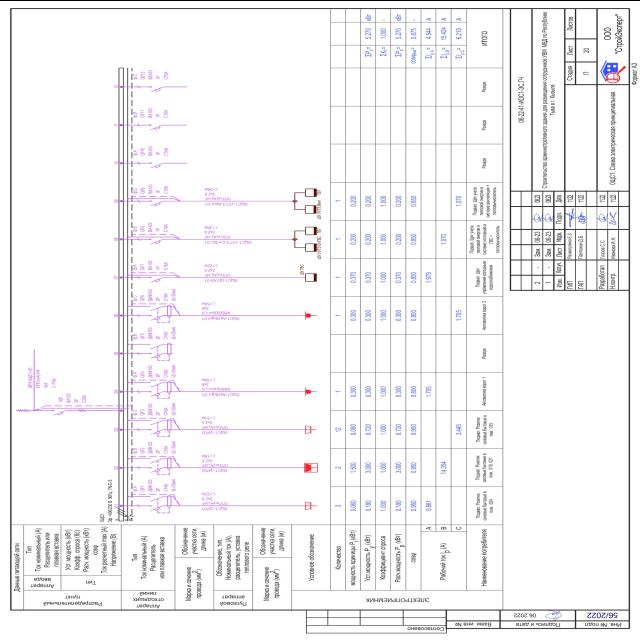-: (132, 400, 177, 416), (132, 286, 177, 302), (132, 362, 177, 378), (132, 476, 177, 492), (132, 438, 176, 454), (132, 324, 176, 339), (132, 144, 172, 156), (132, 106, 171, 118), (132, 68, 171, 80), (132, 182, 170, 194), (132, 220, 170, 232), (132, 258, 170, 270), (66, 392, 88, 402), (98, 512, 106, 522)
QF: (147, 122, 163, 130), (148, 160, 164, 168), (148, 198, 164, 206), (50, 408, 67, 415), (148, 85, 164, 92), (148, 237, 164, 244), (148, 276, 164, 282)
QFD: (145, 303, 173, 323), (145, 341, 173, 361), (144, 378, 172, 398), (146, 417, 174, 437), (146, 494, 174, 514), (146, 455, 173, 475)
